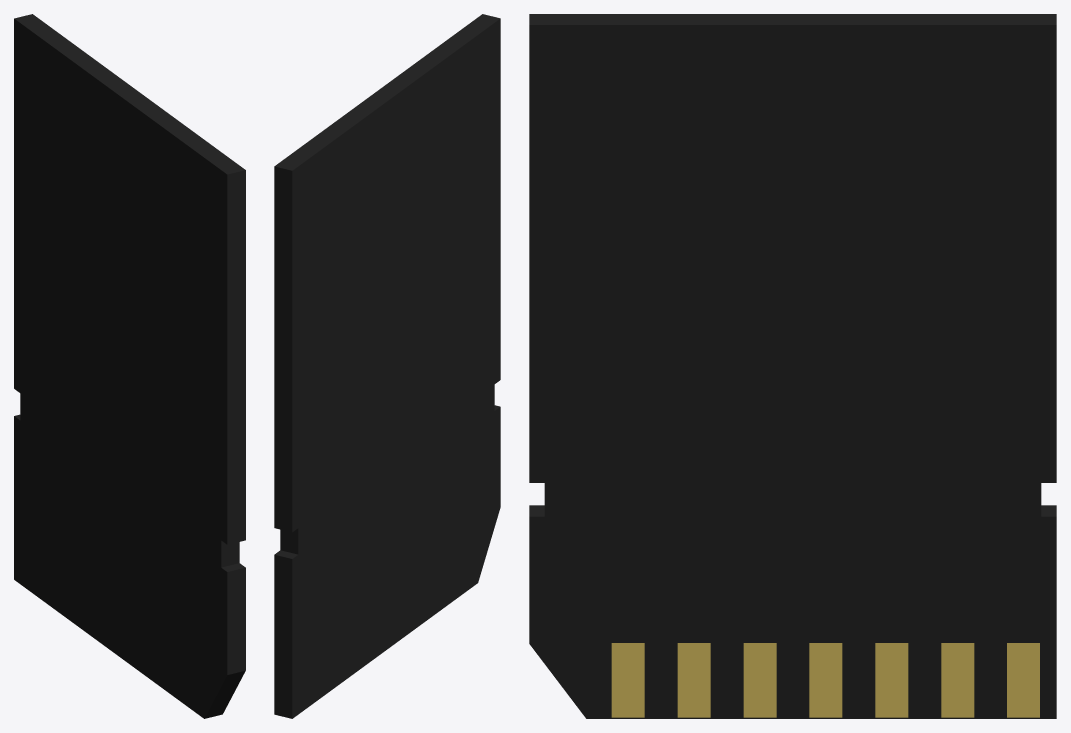
The model's file is sdcard.glb.
The picture shows the model from 3 angles, left to right: view 1: azimuth 30°, elevation 25°; view 2: azimuth 150°, elevation 25°; view 3: azimuth 270°, elevation 25°; orthographic projection. The views are drawn at different scales.
Parts seen in each view (by area): view 1: Cube; view 2: Cube; view 3: Cube.
Part boxes in pixels (x1,y1,x2,y2): Cube: (14,14,245,718); Cube: (274,14,500,718); Cube: (529,14,1056,718).
Bounding box in the file's own units: 0.1 × 2.9 × 2.
